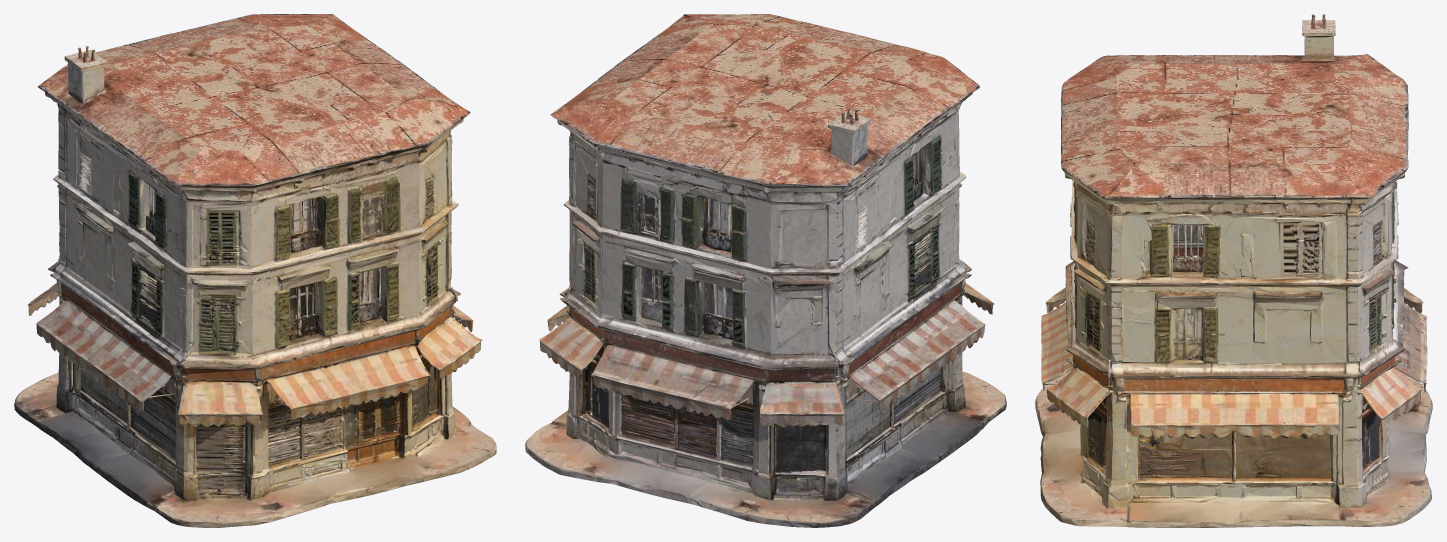
File: shop_block.glb
3 renders of one model, left to right at view 1: azimuth 30°, elevation 25°; view 2: azimuth 150°, elevation 25°; view 3: azimuth 270°, elevation 25°, orthographic.
Visible parts, largest first — view 1: world; view 2: world; view 3: world.
Boxes of the visible parts, x1,y1,x2,y2 form: world: (14, 14, 496, 527); world: (525, 14, 1006, 527); world: (1035, 14, 1432, 527).
Size of the model in its own units: 1.83 by 1.98 by 1.92.
Materials: 1 (1 with a texture image).
